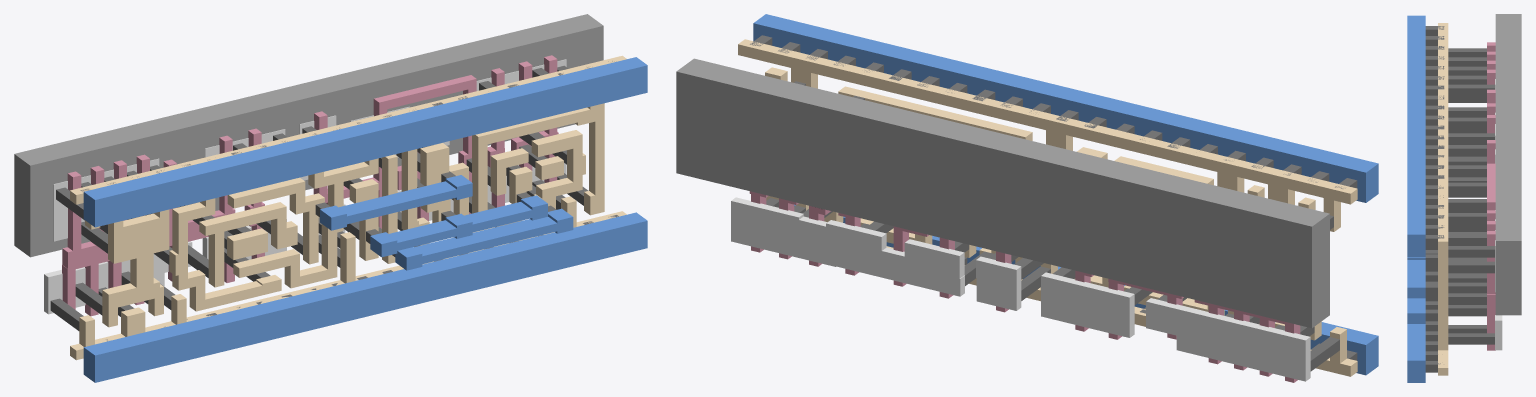
File: sky130_fd_sc_hd__xor3_4.gds.gltf
3 renders of one model, left to right at view 1: azimuth 30°, elevation 25°; view 2: azimuth 150°, elevation 25°; view 3: azimuth 270°, elevation 25°, orthographic. The views are drawn at different scales.
Visible parts, largest first — view 1: sky130_fd_sc_hd__xor3_4_met1, sky130_fd_sc_hd__xor3_4_li1, sky130_fd_sc_hd__xor3_4_nwell, sky130_fd_sc_hd__xor3_4_poly, sky130_fd_sc_hd__xor3_4_licon, sky130_fd_sc_hd__xor3_4_diff, sky130_fd_sc_hd__xor3_4_mcon; view 2: sky130_fd_sc_hd__xor3_4_nwell, sky130_fd_sc_hd__xor3_4_diff, sky130_fd_sc_hd__xor3_4_li1, sky130_fd_sc_hd__xor3_4_met1, sky130_fd_sc_hd__xor3_4_poly, sky130_fd_sc_hd__xor3_4_mcon, sky130_fd_sc_hd__xor3_4_licon; view 3: sky130_fd_sc_hd__xor3_4_licon, sky130_fd_sc_hd__xor3_4_nwell, sky130_fd_sc_hd__xor3_4_met1, sky130_fd_sc_hd__xor3_4_mcon, sky130_fd_sc_hd__xor3_4_li1, sky130_fd_sc_hd__xor3_4_poly, sky130_fd_sc_hd__xor3_4_diff.
Boxes of the visible parts, left/top/right/bottom form: sky130_fd_sc_hd__xor3_4_met1: left=83, top=57, right=647, bottom=382; sky130_fd_sc_hd__xor3_4_li1: left=70, top=55, right=626, bottom=360; sky130_fd_sc_hd__xor3_4_nwell: left=14, top=14, right=603, bottom=257; sky130_fd_sc_hd__xor3_4_poly: left=62, top=55, right=558, bottom=316; sky130_fd_sc_hd__xor3_4_licon: left=50, top=65, right=588, bottom=330; sky130_fd_sc_hd__xor3_4_diff: left=44, top=59, right=566, bottom=314; sky130_fd_sc_hd__xor3_4_mcon: left=80, top=61, right=618, bottom=341; sky130_fd_sc_hd__xor3_4_nwell: left=676, top=58, right=1329, bottom=328; sky130_fd_sc_hd__xor3_4_diff: left=731, top=197, right=1310, bottom=381; sky130_fd_sc_hd__xor3_4_li1: left=738, top=39, right=1357, bottom=376; sky130_fd_sc_hd__xor3_4_met1: left=753, top=14, right=1378, bottom=375; sky130_fd_sc_hd__xor3_4_poly: left=749, top=191, right=1300, bottom=382; sky130_fd_sc_hd__xor3_4_mcon: left=750, top=35, right=1357, bottom=360; sky130_fd_sc_hd__xor3_4_licon: left=766, top=81, right=1339, bottom=371; sky130_fd_sc_hd__xor3_4_licon: left=1448, top=48, right=1494, bottom=344; sky130_fd_sc_hd__xor3_4_nwell: left=1495, top=14, right=1521, bottom=315; sky130_fd_sc_hd__xor3_4_met1: left=1407, top=15, right=1425, bottom=382; sky130_fd_sc_hd__xor3_4_mcon: left=1425, top=26, right=1444, bottom=372; sky130_fd_sc_hd__xor3_4_li1: left=1438, top=23, right=1448, bottom=375; sky130_fd_sc_hd__xor3_4_poly: left=1487, top=42, right=1495, bottom=350; sky130_fd_sc_hd__xor3_4_diff: left=1495, top=79, right=1502, bottom=350.
Bounding box in the file's own units: 10.5 × 3.2 × 2.24.
